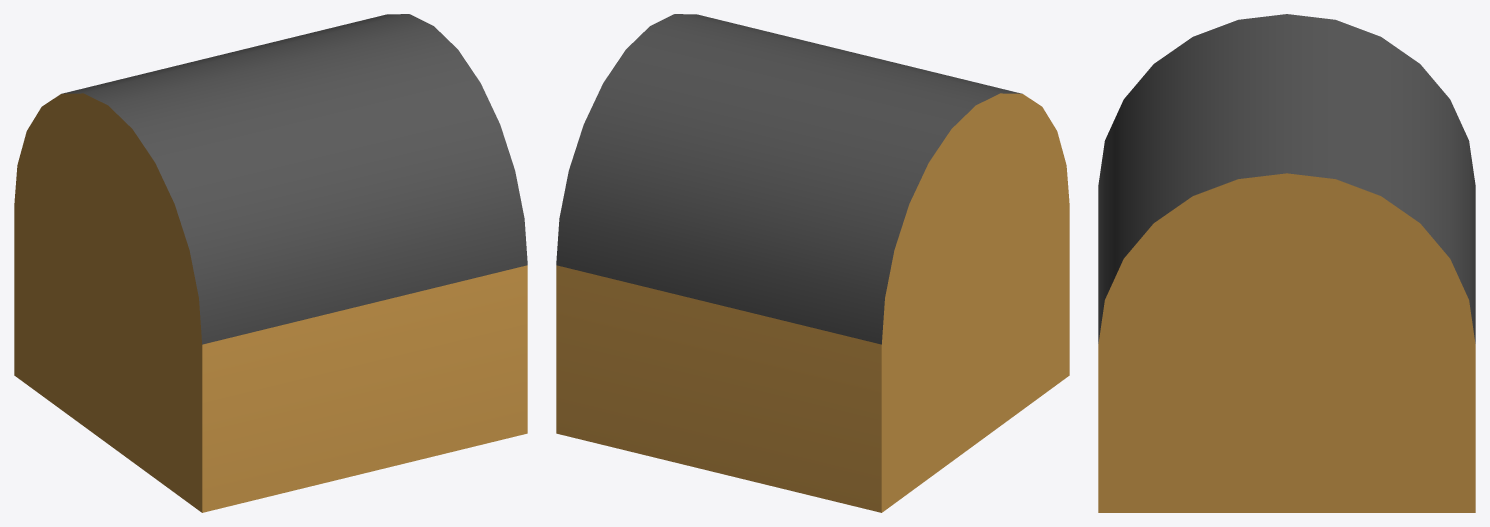
File: Skate_Block_Wave_High_01.FBX
3 renders of one model, left to right at view 1: azimuth 30°, elevation 25°; view 2: azimuth 150°, elevation 25°; view 3: azimuth 270°, elevation 25°, orthographic.
Visible parts, largest first — view 1: Skate_Block_Wave_High_01; view 2: Skate_Block_Wave_High_01; view 3: Skate_Block_Wave_High_01.
Boxes of the visible parts, left/top/right/bottom form: Skate_Block_Wave_High_01: left=14, top=14, right=527, bottom=512; Skate_Block_Wave_High_01: left=556, top=14, right=1069, bottom=512; Skate_Block_Wave_High_01: left=1098, top=14, right=1475, bottom=512.
Size of the model in its own units: 3 by 2.98 by 3.
